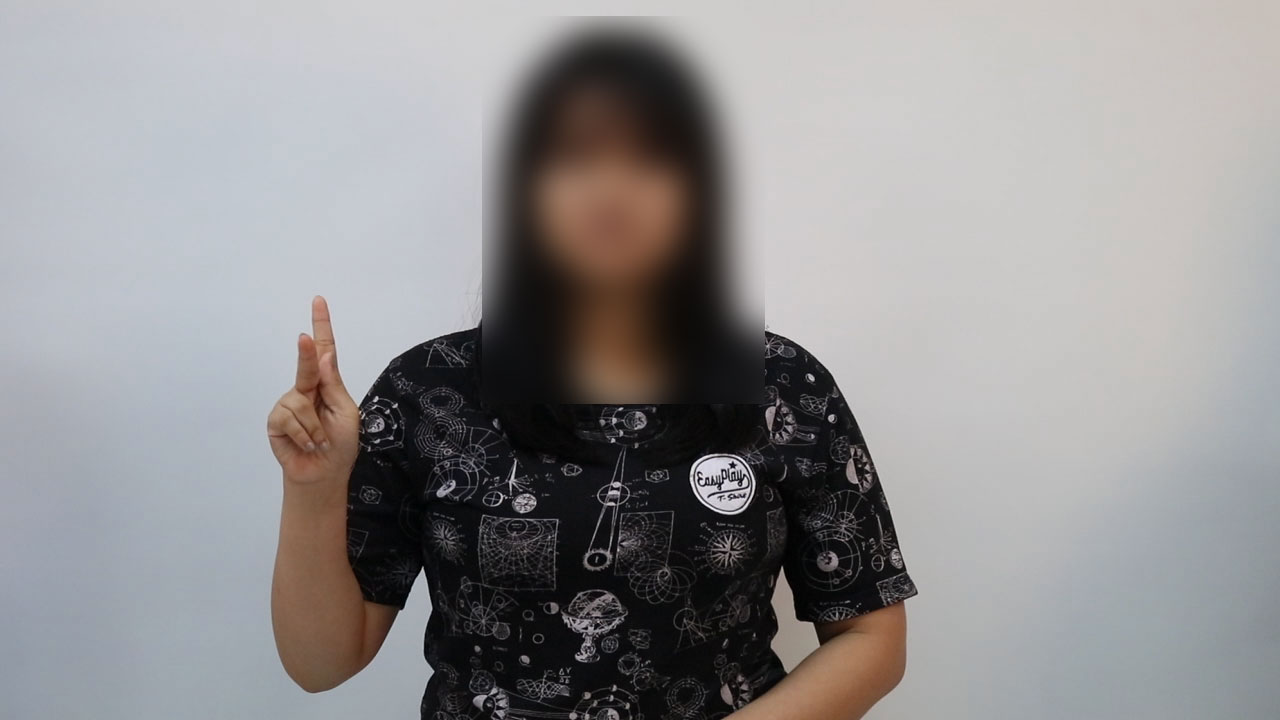ko: (223, 267, 407, 514)
